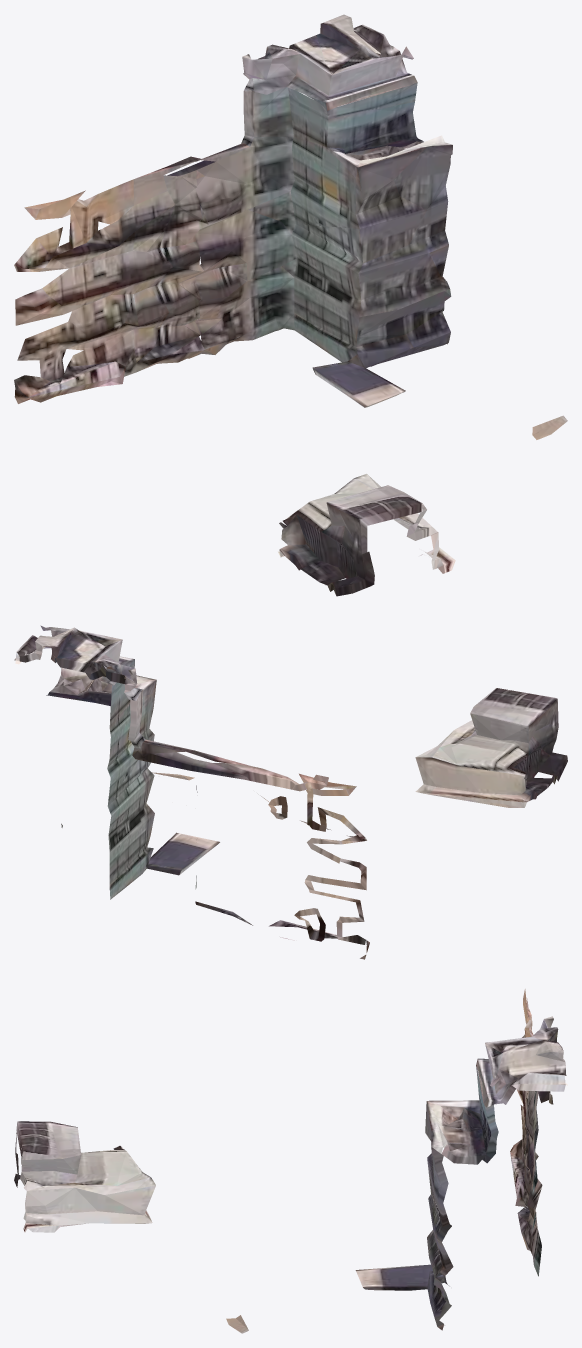
3 views of the same model, one above another, from view 1: azimuth 30°, elevation 25°; view 2: azimuth 150°, elevation 25°; view 3: azimuth 270°, elevation 25° (orthographic). The views are drawn at different scales.
Visible parts, largest first — view 1: Mesh_0; view 2: Mesh_0; view 3: Mesh_0.
Part boxes in pixels (x1,y1,x2,y2): Mesh_0: [14, 14, 567, 596]; Mesh_0: [14, 625, 567, 959]; Mesh_0: [14, 989, 567, 1333].
Size of the model in its own units: 30.96 by 22.29 by 41.35.
1 material, 1 textured.
